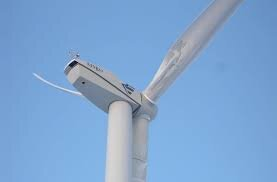faulty: (32, 52, 188, 111)
